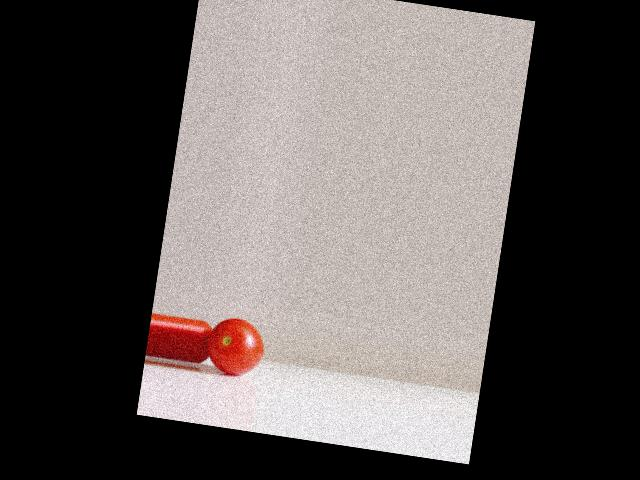tomato: (204, 314, 267, 378)
